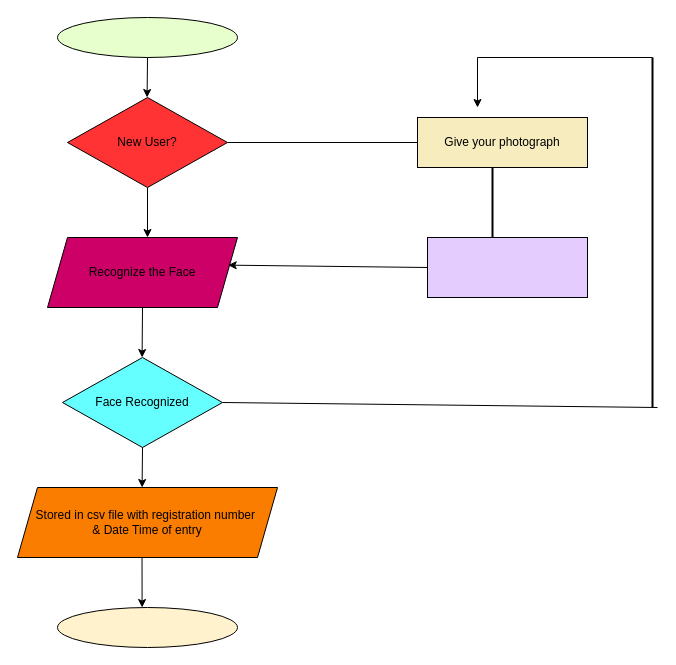
Image size: 676x665. Some labels were removed from this diagram. Here are the shapes that lost their labels. From the top down, the centre of each, then its label:
At pixel 147 37: "Start".
At pixel 507 267: "Store the face data in folder on your name".
At pixel 147 627: "End".
